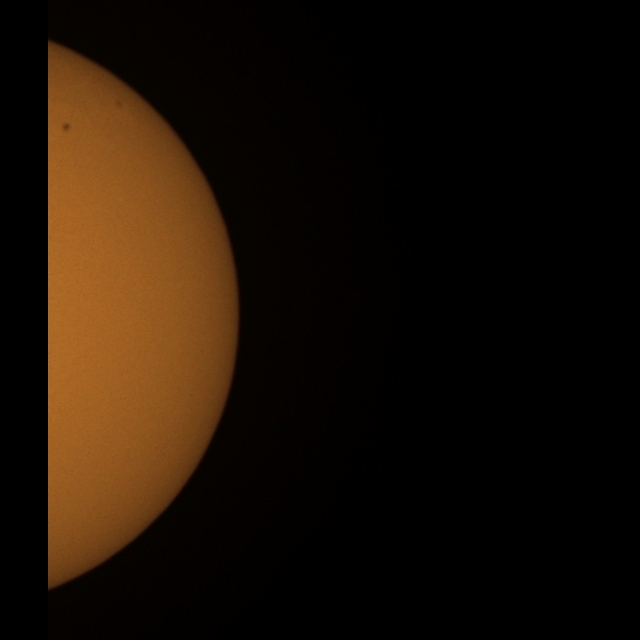sunspot: (111, 93, 128, 114), (61, 122, 71, 133)
